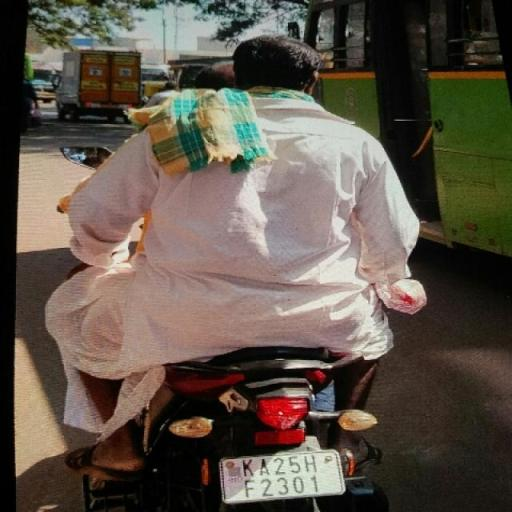bike: (48, 28, 432, 512)
numberplate: (221, 448, 349, 506)
withouthelmet: (238, 35, 314, 91)
